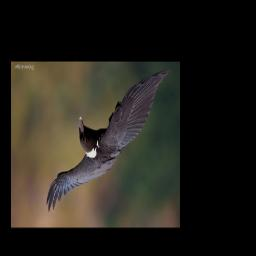Crow: (46, 66, 171, 213)
